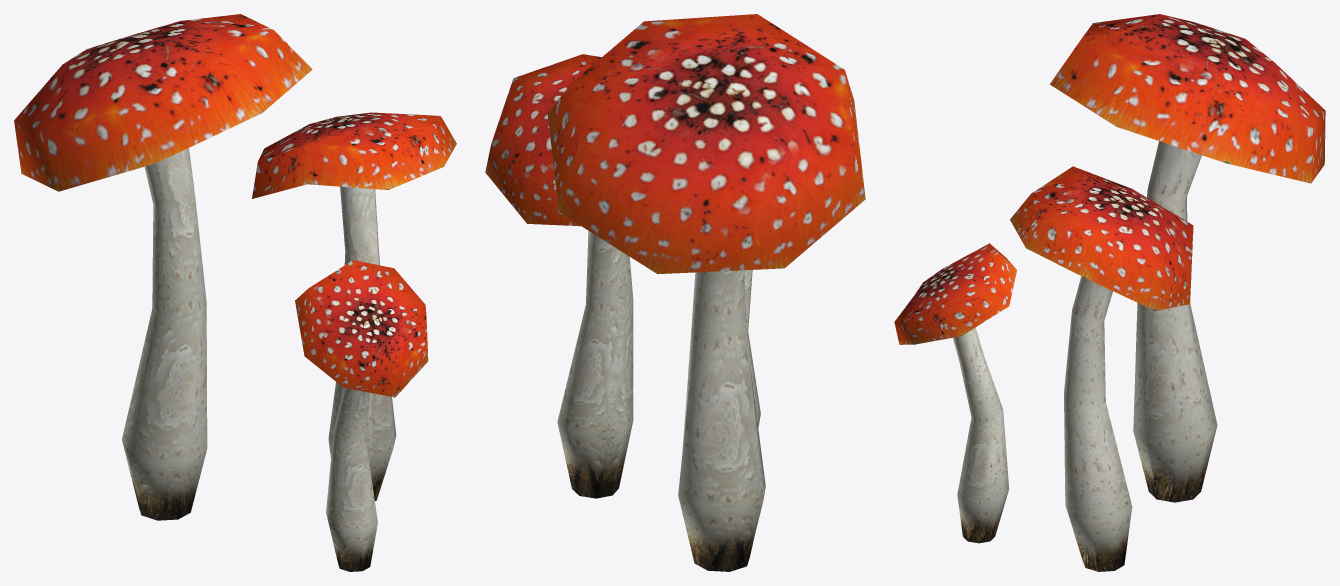
The model's file is mushroom.FBX.
3 renders of one model, left to right at view 1: azimuth 30°, elevation 25°; view 2: azimuth 150°, elevation 25°; view 3: azimuth 270°, elevation 25°, orthographic. The views are drawn at different scales.
Visible parts, largest first — view 1: mushroom; view 2: mushroom; view 3: mushroom.
Boxes of the visible parts, x1,y1,x2,y2 form: mushroom: (14,14,456,571); mushroom: (485,14,865,571); mushroom: (894,14,1325,571).
Bounding box in the file's own units: 72.01 × 90.11 × 75.6.
